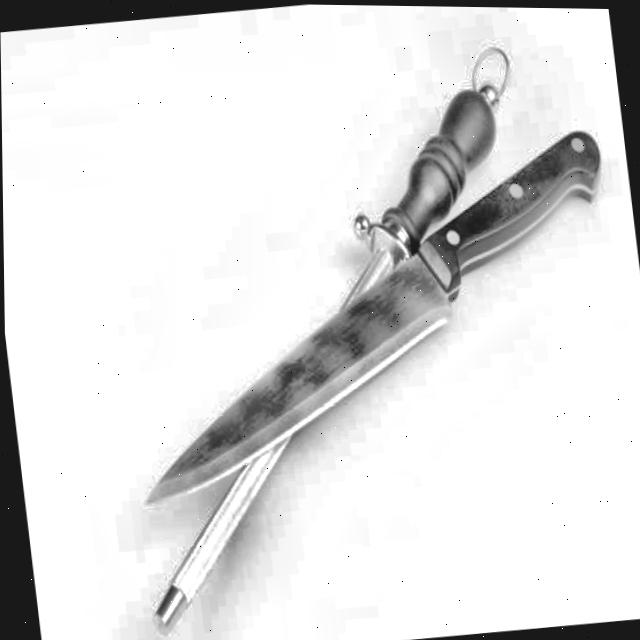pisau: (139, 121, 606, 511)
